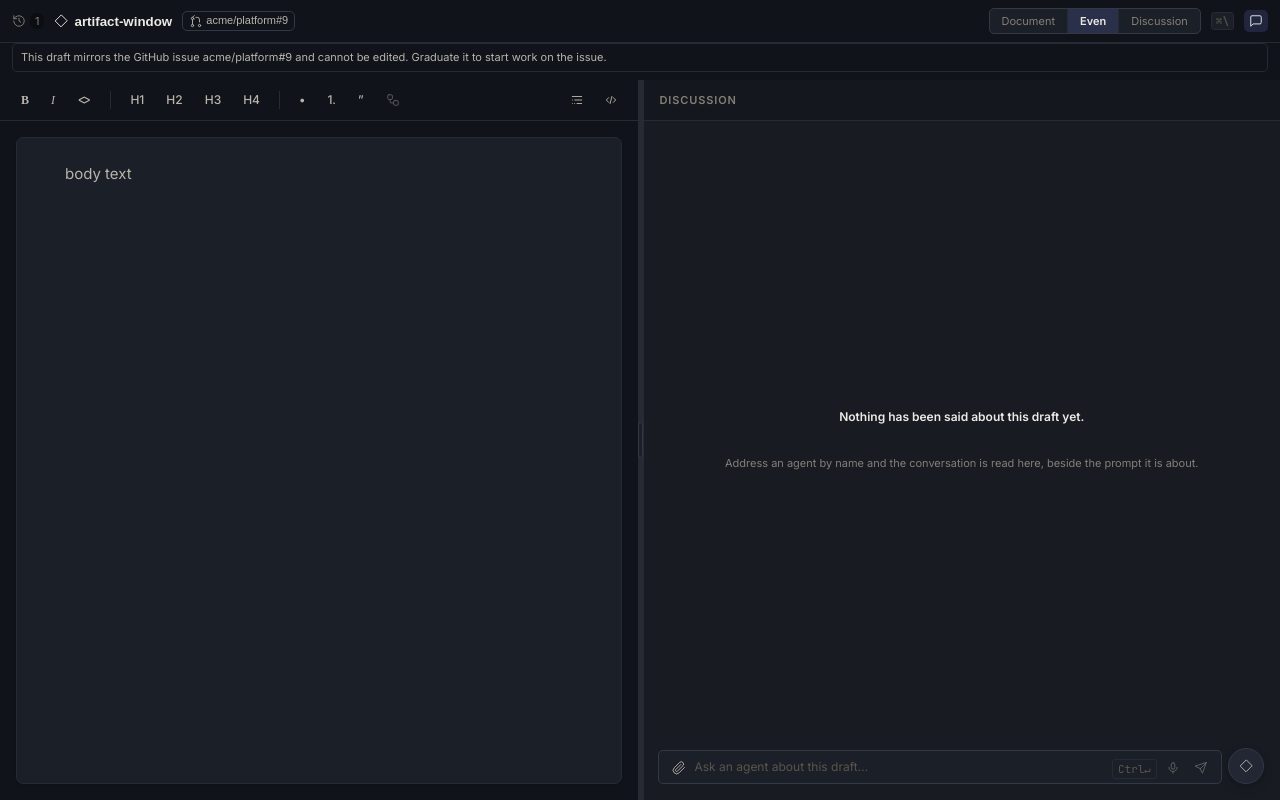
New Artifact workspace — a GitHub-shadow draft › NAW-FR-UEWC / NAW-FR-16: the prompt is read-only and a banner says the draft mirrors a GitHub issue
Expected: the text with test id "draft-github-shadow-banner" shows "This draft mirrors the GitHub issue acme/platform#9 and cannot be edited.", [12,43,1268,72]
Step 1. Click the button named "Edit as Markdown source" → (610, 100), box [596,86,626,114]
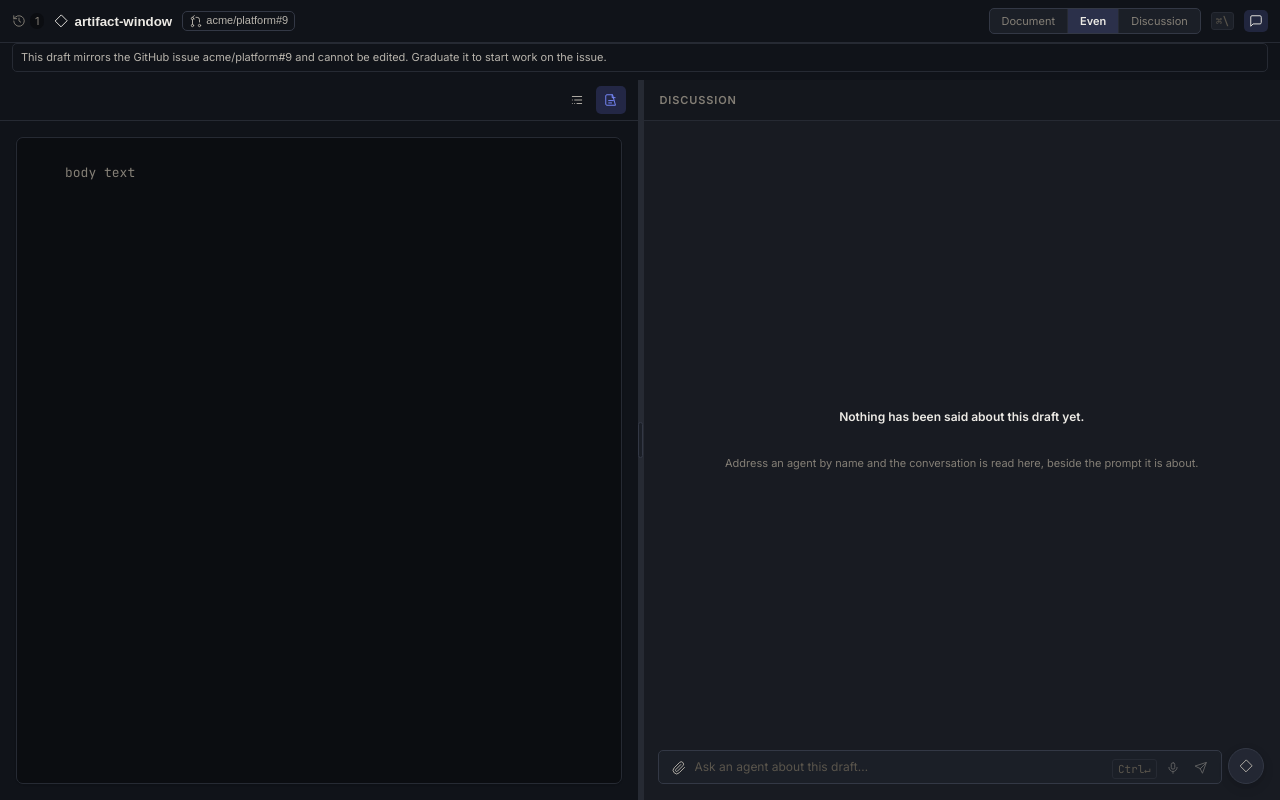
Result: the text box named "Markdown source" is disabled at [17,138,620,783]
